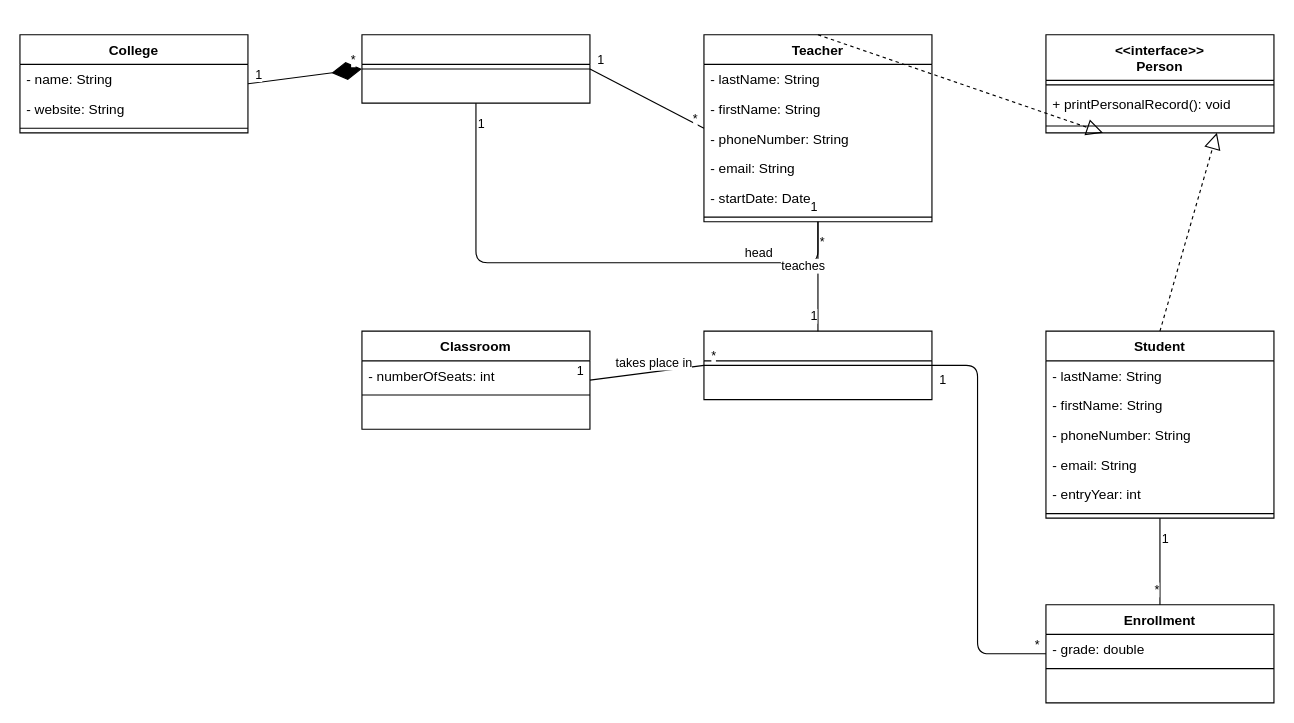
The diagram is 1294 pixels wide and 723 high, and some of its shapes have lost their labels. The shapes that lost their labels are listed below. From the top down, each one's centre as x and y in pixels, then its label:
At point (475, 68): "Department".
At point (817, 365): "Subject".
